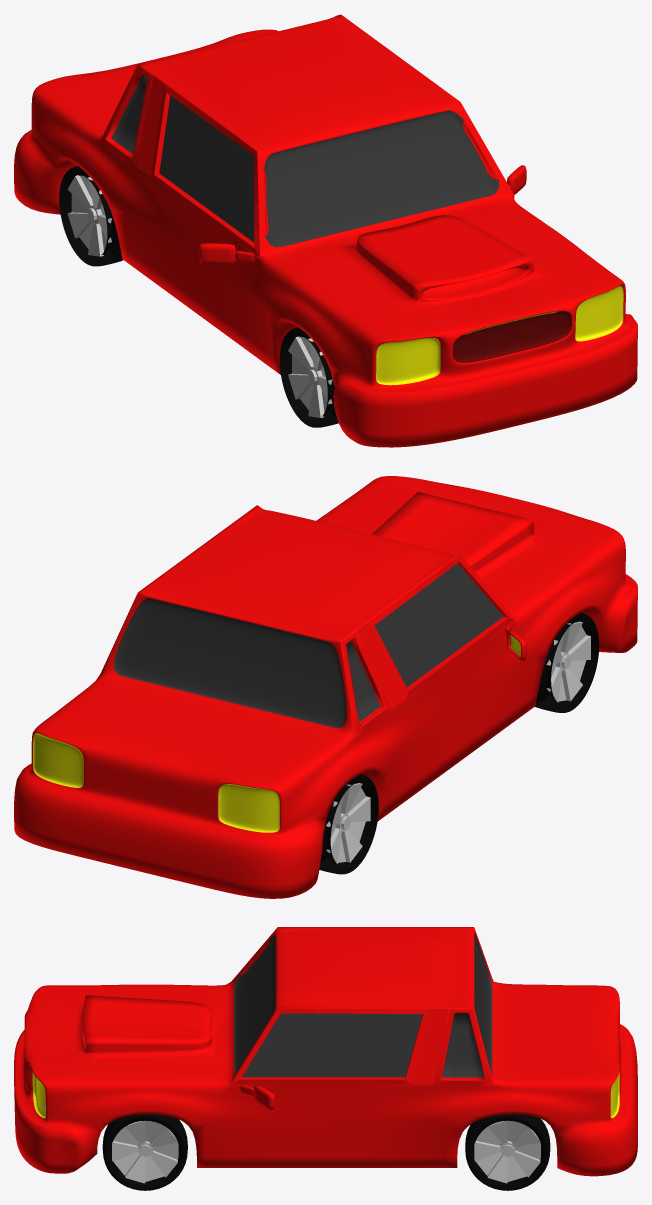
The model's file is car.fbx.
The picture shows the model from 3 angles, top to bottom: view 1: azimuth 30°, elevation 25°; view 2: azimuth 150°, elevation 25°; view 3: azimuth 270°, elevation 25°; orthographic projection. The views are drawn at different scales.
Parts seen in each view (by area): view 1: Cube, Cylinder; view 2: Cube, Cylinder; view 3: Cube, Cylinder.
Boxes of the visible parts, x1,y1,x2,y2 form: Cube: (14, 14, 637, 447); Cylinder: (59, 166, 338, 427); Cube: (14, 476, 637, 898); Cylinder: (319, 612, 599, 874); Cube: (14, 927, 637, 1176); Cylinder: (102, 1114, 550, 1190).
Bounding box in the file's own units: 0.2797 × 0.1722 × 0.5642.
